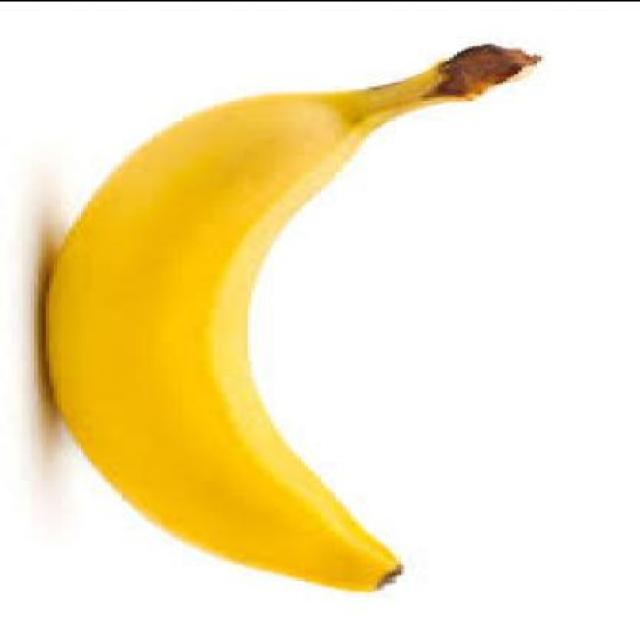BIODEGRADABLE: (48, 46, 538, 589)
